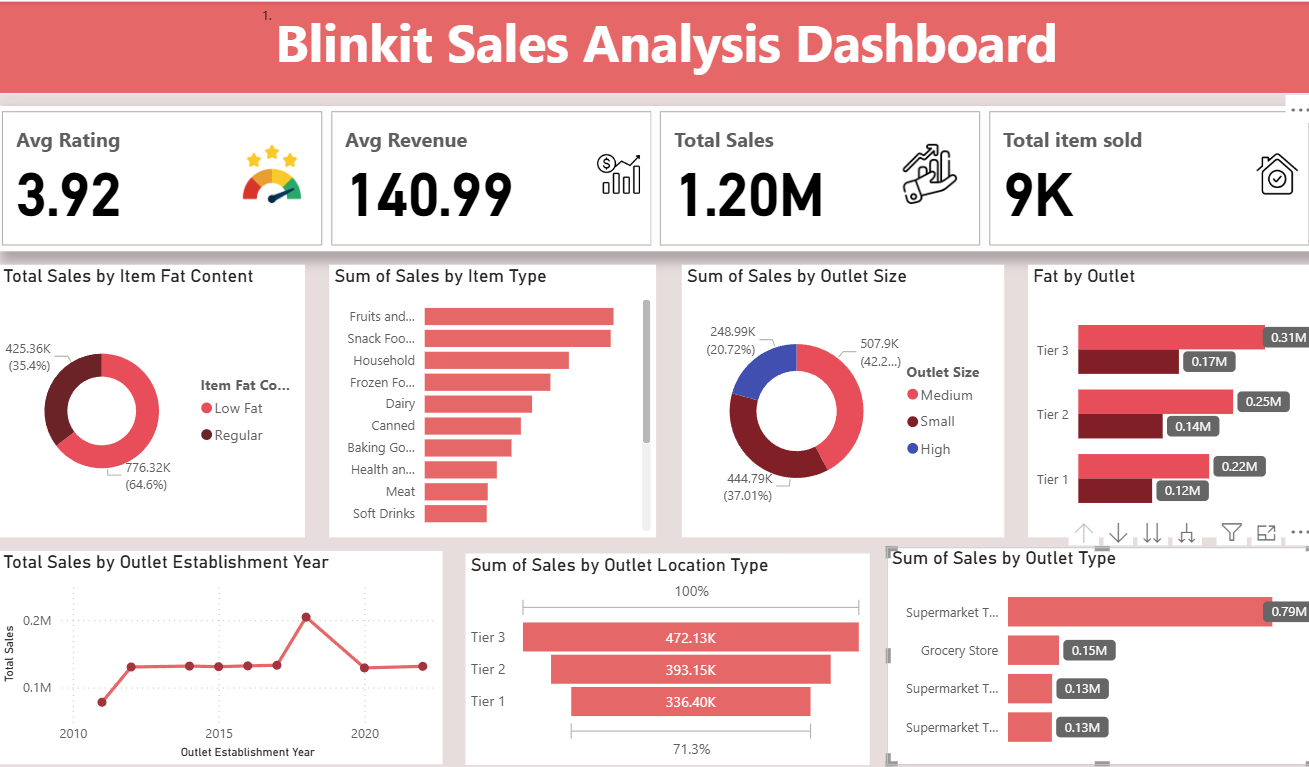

What the dashboard file says about the page in this screenshot:
{"tool":"powerbi","page":{"name":"Page 1","canvas":[1280,720],"ordinal":0},"visuals":[{"type":"cardVisual","fields":{"Data":["Sheet1.Avg rating","Sheet1.Avg Revenue","Sheet1.Total Sales","Sheet1.Total item sold"]},"box":[17.9,97.6,1226.4,135],"z":0},{"type":"donutChart","title":"Total Sales by Item Fat Content","fields":{"Category":["Sheet1.Item Fat Content"],"Y":["Sheet1.Total Sales"]},"box":[18.9,245.7,285.4,253.2],"z":1000},{"type":"clusteredBarChart","title":"Fat by Outlet","fields":{"Category":["Sheet1.Outlet Location Type"],"Y":["Sum(Sheet1.Sales)"],"Series":["Sheet1.Item Fat Content"]},"box":[976.7,245,268.3,253.3],"z":2000},{"type":"clusteredBarChart","title":"Sum of Sales by Item Type","fields":{"Y":["Sum(Sheet1.Sales)"],"Category":["Sheet1.Item Type"]},"box":[326.9,245.7,304.3,253.2],"z":3000},{"type":"lineChart","title":" Total Sales by Outlet Establishment Year","fields":{"Category":["Sheet1.Outlet Establishment Year"],"Y":["Sheet1.Total Sales"]},"box":[18.3,511.7,413.3,198.3],"z":4000},{"type":"funnel","title":"Sum of Sales by Outlet Location Type","fields":{"Category":["Sheet1.Outlet Location Type"],"Y":["Sum(Sheet1.Sales)"]},"box":[453.5,514,376.1,196.5],"z":5000},{"type":"donutChart","title":"Sum of Sales by Outlet Size","fields":{"Y":["Sum(Sheet1.Sales)"],"Category":["Sheet1.Outlet Size"]},"box":[655,245,300,253.3],"z":6000},{"type":"clusteredBarChart","fields":{"Category":["Sheet1.Outlet Type","Sheet1.Item Type"],"Y":["Sum(Sheet1.Sales)"]},"box":[845,508.3,400,201.7],"z":7000},{"type":"textbox","box":[17.9,0,1228,86.2],"z":8000}]}

Visuals, with their boxes on the page's 1280x720 design canvas (x1, y1, x2, y2). These are canvas units, not pixel positions in the 1309x767 screenshot, which may show the page scaled, cropped or inside an application window:
cardVisual - Sheet1.Avg rating x Sheet1.Avg Revenue: select_region(18, 98, 1244, 233)
"Total Sales by Item Fat Content" donutChart: select_region(19, 246, 304, 499)
"Fat by Outlet" clusteredBarChart: select_region(977, 245, 1245, 498)
"Sum of Sales by Item Type" clusteredBarChart: select_region(327, 246, 631, 499)
" Total Sales by Outlet Establishment Year" lineChart: select_region(18, 512, 432, 710)
"Sum of Sales by Outlet Location Type" funnel: select_region(454, 514, 830, 710)
"Sum of Sales by Outlet Size" donutChart: select_region(655, 245, 955, 498)
clusteredBarChart - Sheet1.Outlet Type x Sheet1.Item Type: select_region(845, 508, 1245, 710)
textbox: select_region(18, 0, 1246, 86)
